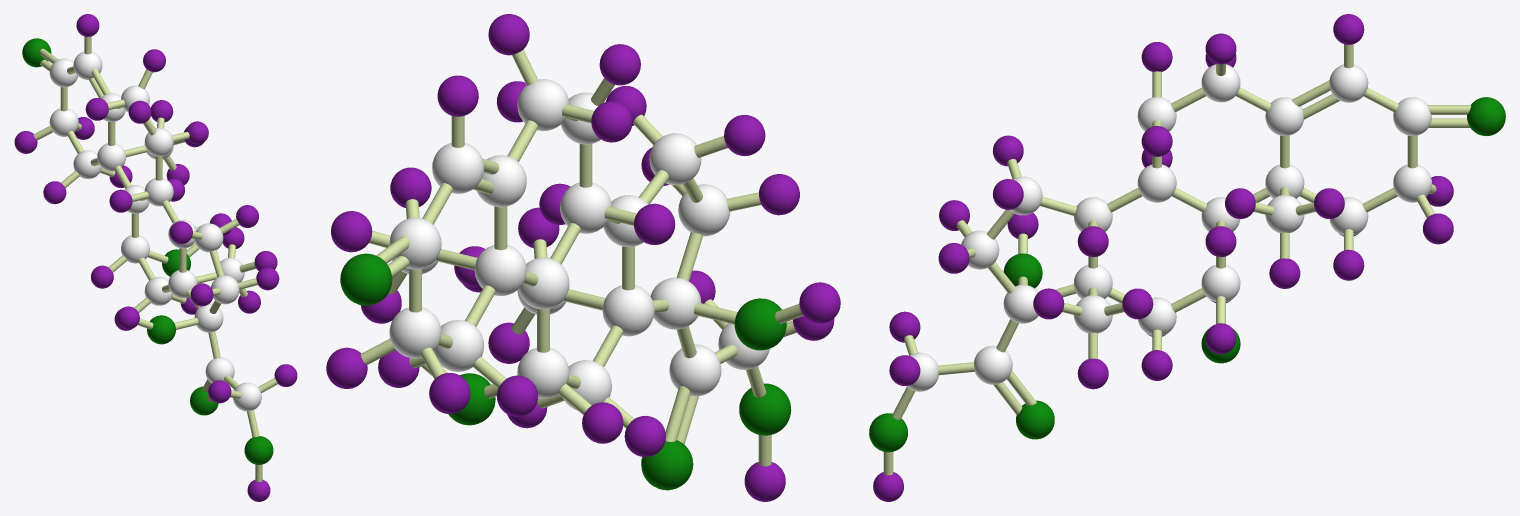
Rendered from Cortisol_OBJ.obj.
3 renders of one model, left to right at view 1: azimuth 30°, elevation 25°; view 2: azimuth 150°, elevation 25°; view 3: azimuth 270°, elevation 25°, orthographic. The views are drawn at different scales.
Parts seen in each view (by area): view 1: Oxygen5, Oxygen3, Carbon10, Carbon2, Carbon4, Carbon12, Carbon21, Carbon11, Carbon19, Carbon18, Carbon5, Carbon15 (+35 smaller); view 2: Oxygen1, Oxygen3, Carbon5, Carbon2, Carbon15, Carbon4, Oxygen5, Carbon19, Carbon9, Carbon11, Carbon20, Carbon18 (+52 smaller); view 3: Oxygen1, Oxygen5, Carbon20, Carbon1, Carbon11, Carbon5, Carbon6, Oxygen4, Carbon2, Carbon12, Carbon9, Carbon7 (+39 smaller).
Part boxes in pixels (left/top/right/bottom): Oxygen5: left=244, top=436, right=273, bottom=464; Oxygen3: left=147, top=315, right=175, bottom=344; Carbon10: left=144, top=127, right=173, bottom=156; Carbon2: left=49, top=108, right=78, bottom=136; Carbon4: left=97, top=143, right=126, bottom=171; Carbon12: left=121, top=235, right=149, bottom=263; Carbon21: left=233, top=382, right=261, bottom=411; Carbon11: left=144, top=178, right=173, bottom=206; Carbon19: left=194, top=223, right=223, bottom=252; Carbon18: left=211, top=275, right=239, bottom=304; Carbon5: left=73, top=51, right=102, bottom=79; Carbon15: left=168, top=270, right=197, bottom=298; Oxygen1: left=340, top=253, right=392, bottom=305; Oxygen3: left=734, top=298, right=786, bottom=350; Carbon5: left=432, top=143, right=483, bottom=193; Carbon2: left=389, top=307, right=441, bottom=358; Carbon15: left=602, top=285, right=654, bottom=336; Carbon4: left=474, top=245, right=526, bottom=295; Oxygen5: left=739, top=383, right=791, bottom=435; Carbon19: left=649, top=133, right=701, bottom=185; Carbon9: left=517, top=79, right=569, bottom=131; Carbon11: left=560, top=182, right=611, bottom=233; Carbon20: left=669, top=344, right=721, bottom=396; Carbon18: left=678, top=184, right=730, bottom=236; Oxygen1: left=1467, top=97, right=1505, bottom=135; Oxygen5: left=869, top=413, right=907, bottom=452; Carbon20: left=974, top=345, right=1012, bottom=384; Carbon1: left=1393, top=97, right=1431, bottom=135; Carbon11: left=1137, top=164, right=1176, bottom=202; Carbon5: left=1329, top=64, right=1368, bottom=102; Carbon6: left=1265, top=97, right=1303, bottom=135; Oxygen4: left=1016, top=400, right=1054, bottom=439; Carbon2: left=1393, top=164, right=1431, bottom=202; Carbon12: left=1201, top=264, right=1240, bottom=302; Carbon9: left=1201, top=64, right=1240, bottom=102; Carbon7: left=1265, top=195, right=1304, bottom=232.
Size of the model in its own units: 3.29 by 6.49 by 7.72.
